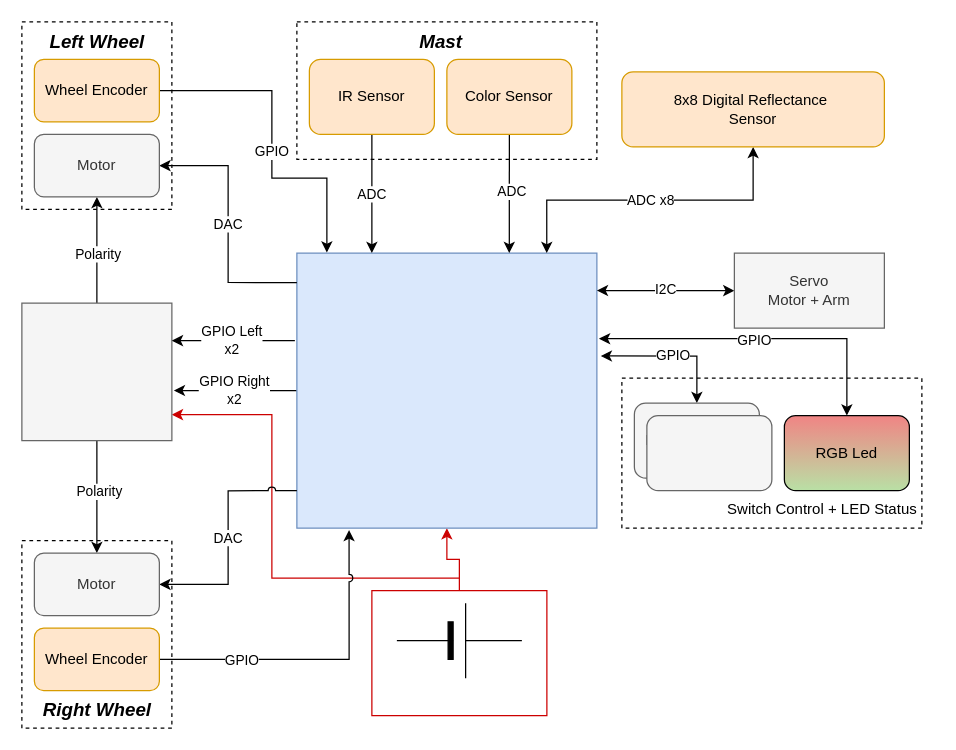
Some shapes in this 956 by 750 pixel diagram are drawn without their labels. Each missing label, with the centre of its shape:
"9.6 V NiMh Battery" goes at point (459, 640).
"Arduino Mega 2560" goes at point (446, 390).
"H-Bridge" goes at point (96, 371).
"Push Button x2" goes at point (709, 452).
